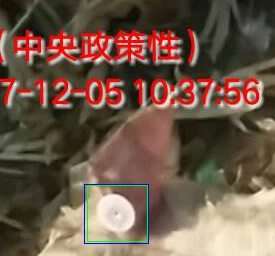text: (87, 185, 147, 241)
